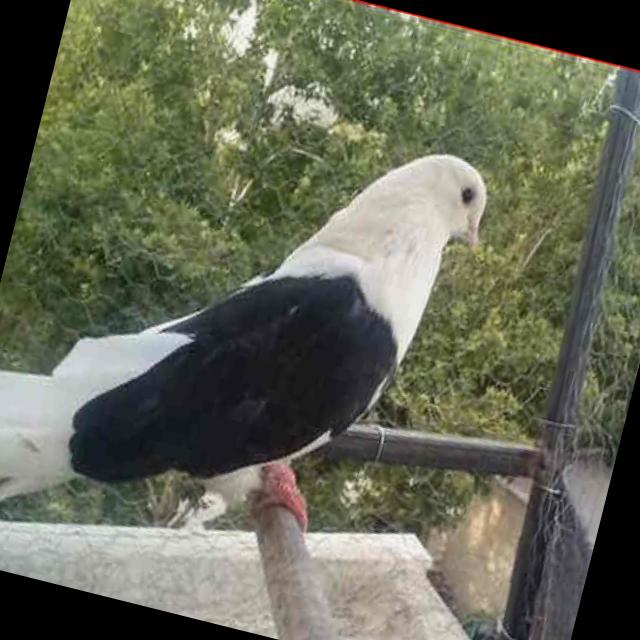bird: (0, 45, 511, 631)
